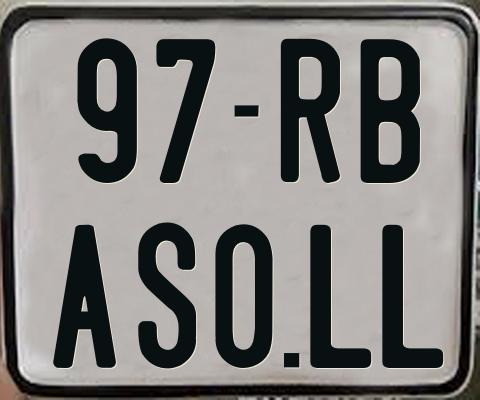0: (215, 223, 274, 372)
7: (153, 37, 218, 186)
9: (75, 38, 136, 186)
A: (53, 222, 116, 368)
B: (357, 38, 422, 187)
L: (380, 222, 442, 371), (310, 225, 371, 370)
R: (278, 37, 340, 183)
S: (135, 220, 193, 366)
